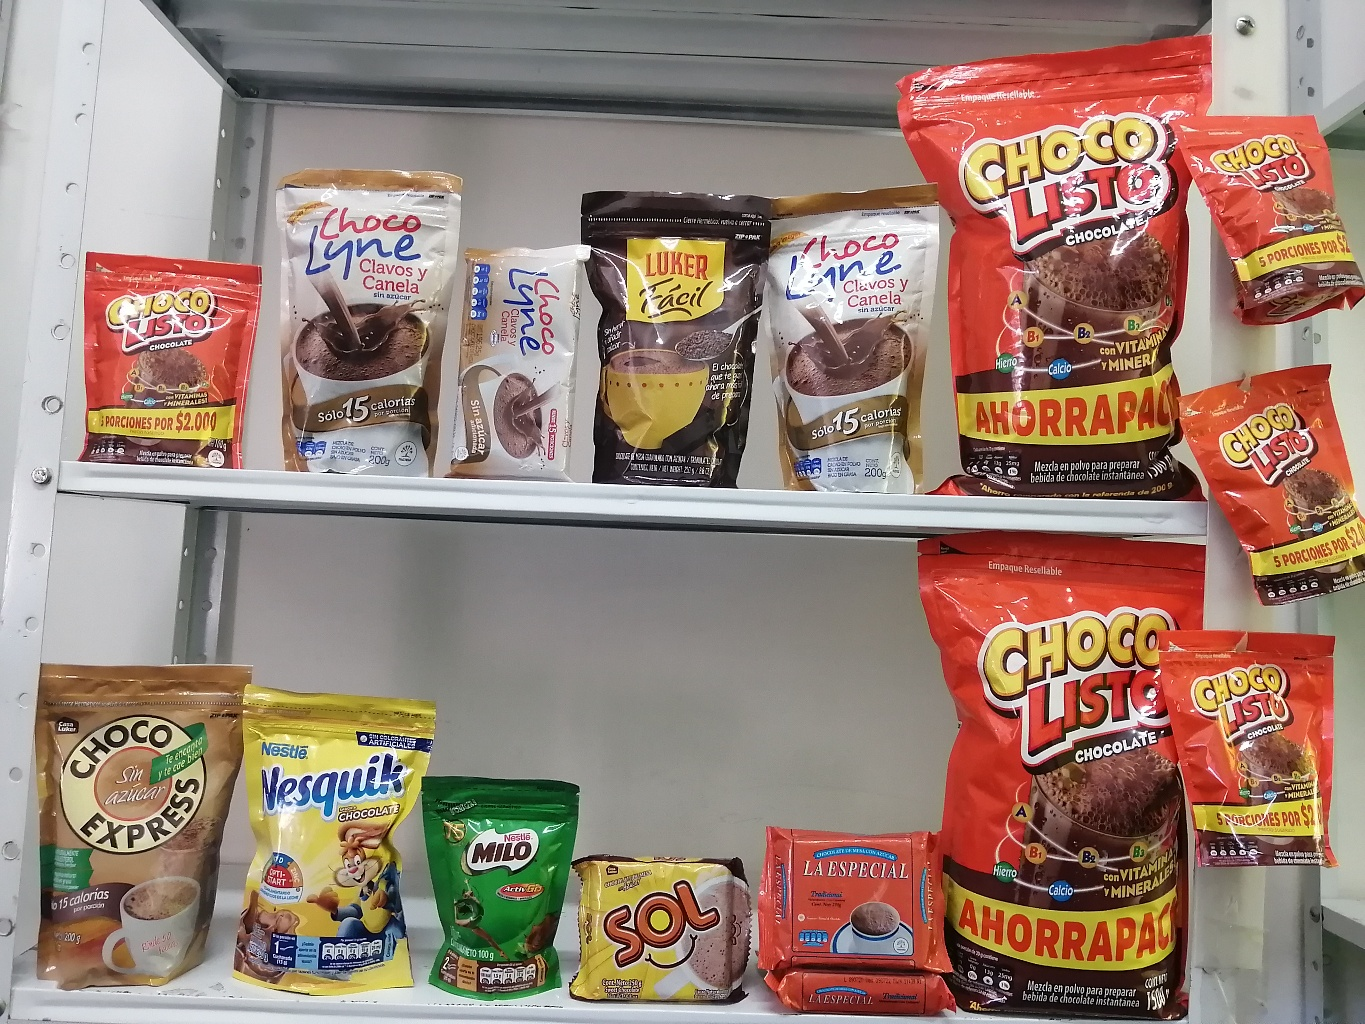COL0170203DYP10000: (410, 762, 592, 1008)
COL0170303DYP20000: (222, 672, 437, 1002)
